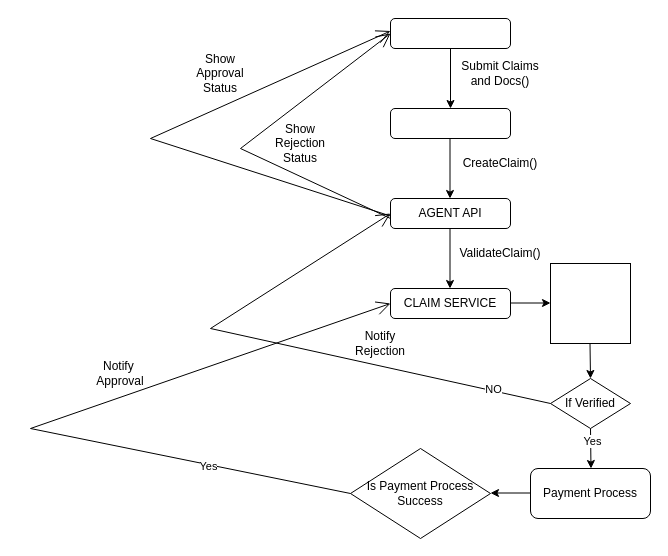
This 668x556 diagram has some shape labels left out. The shapes that lost their labels are listed below. From the top down, each one's centre as x and y in pixels, then its label:
At point (450, 33): "POLICY HOLDER".
At point (450, 123): ".NET UI".
At point (590, 303): "Verify Policy Coverage() Verify Docs()".
